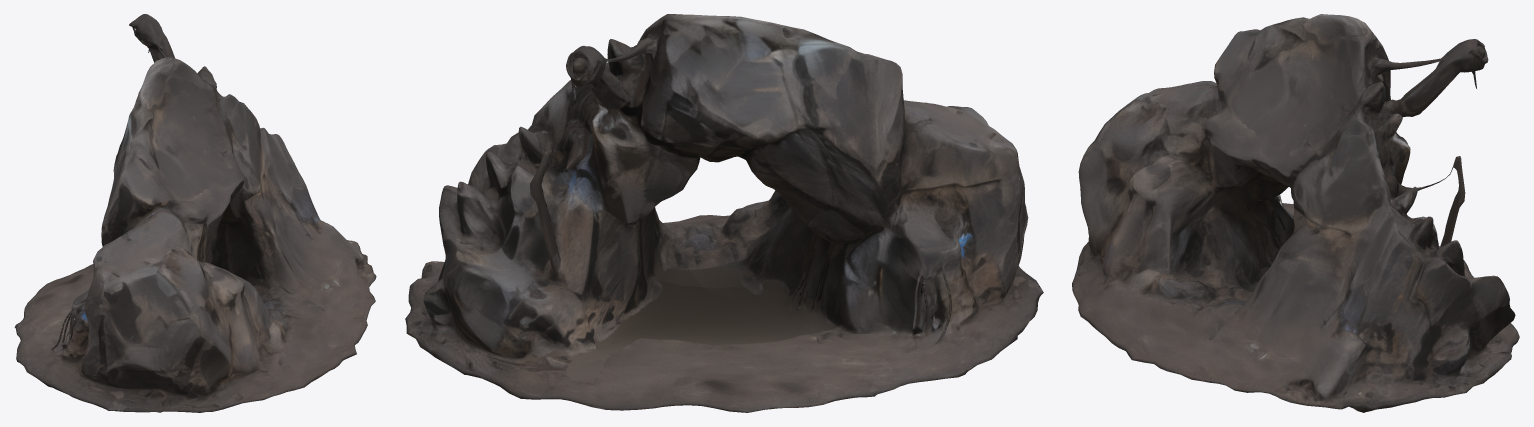
The model's file is RockGrove_basic_shaded.glb.
3 views of the same model, side by side, from view 1: azimuth 30°, elevation 25°; view 2: azimuth 150°, elevation 25°; view 3: azimuth 270°, elevation 25° (orthographic). The views are drawn at different scales.
Parts seen in each view (by area): view 1: model; view 2: model; view 3: model.
Boxes of the visible parts, x1,y1,x2,y2 form: model: [14, 14, 376, 412]; model: [405, 14, 1043, 412]; model: [1072, 14, 1519, 412].
Size of the model in its own units: 1.88 by 1.26 by 1.7.
1 material, 1 textured.
